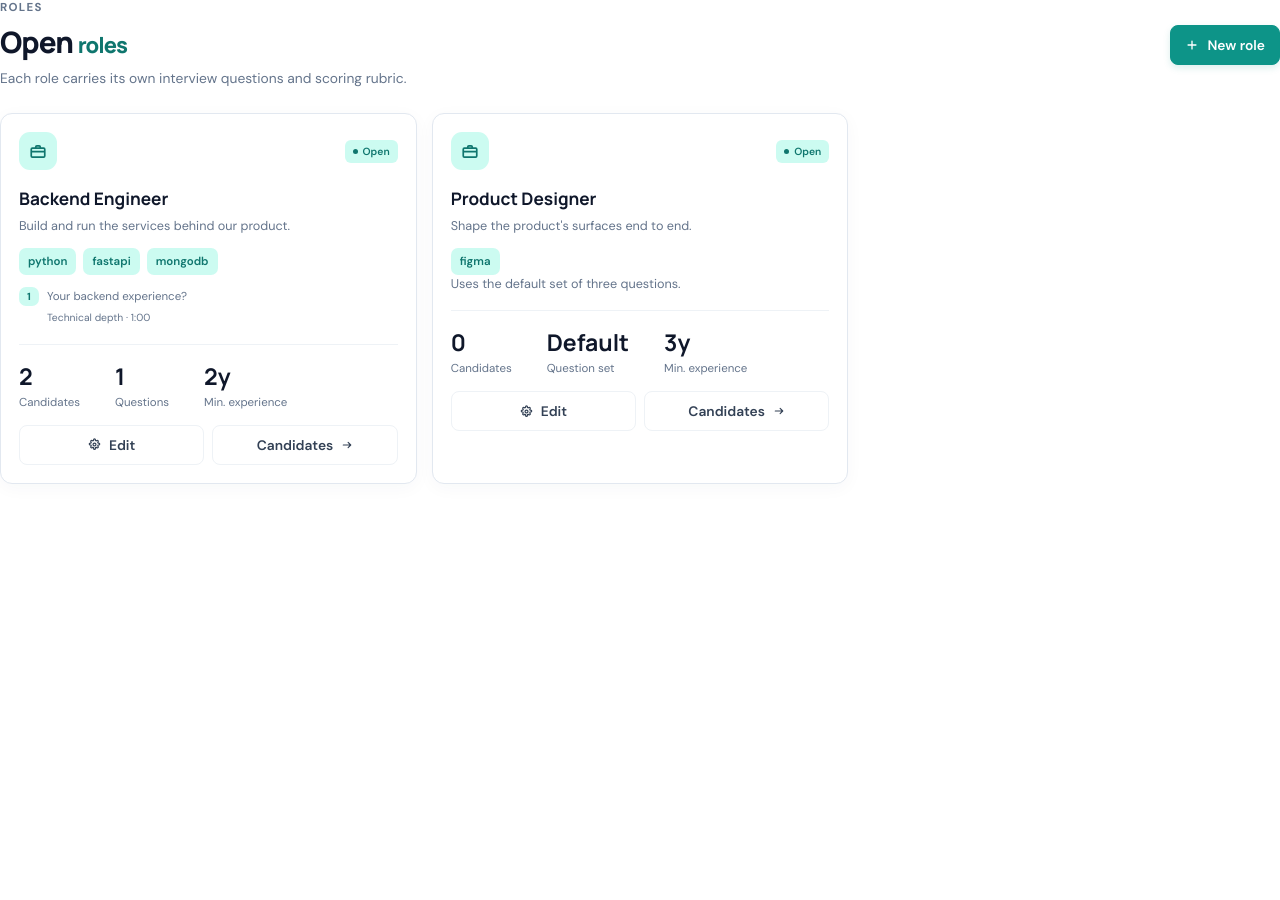
Scenario: reaching the editor from the jobs list › opens the editor for the role chosen
Click the button with aria-label "edit product designer": (543, 411) x1=451 y1=391 x2=636 y2=431
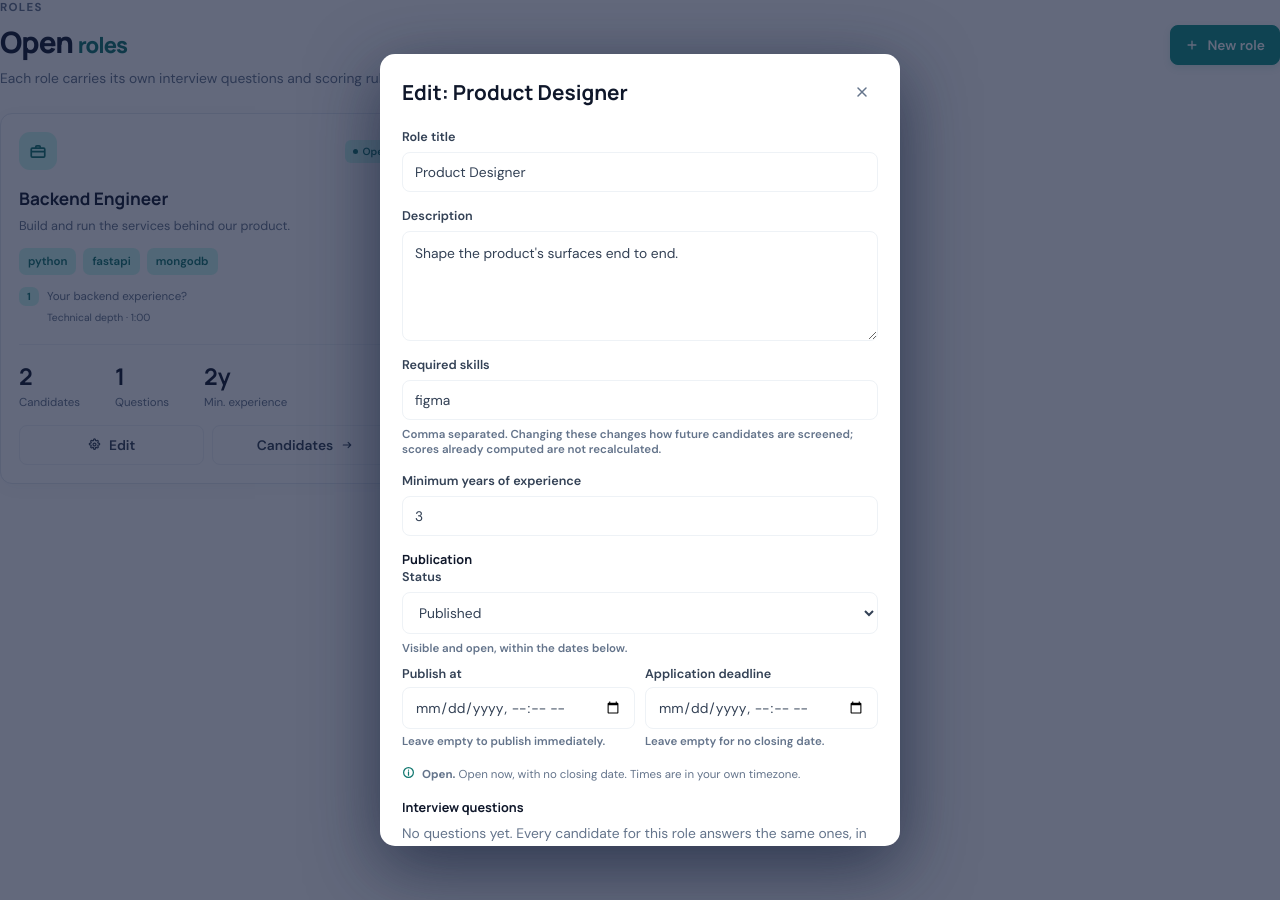
Result: the dialog "Edit: Product Designer" is shown at x1=380 y1=54 x2=900 y2=846
